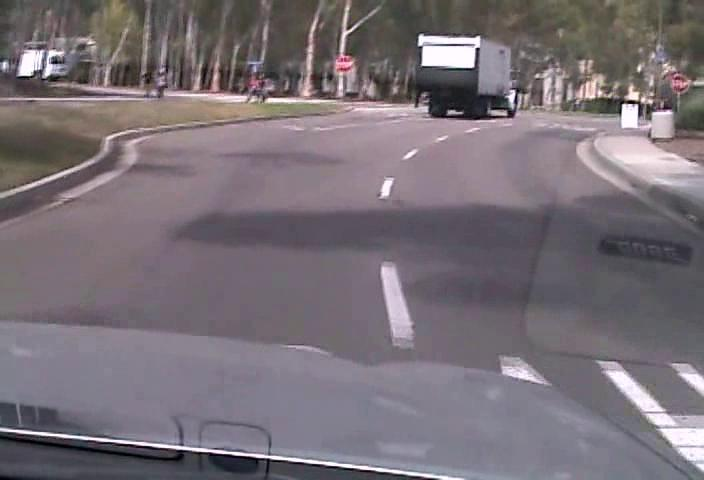stop: (334, 55, 352, 72)
